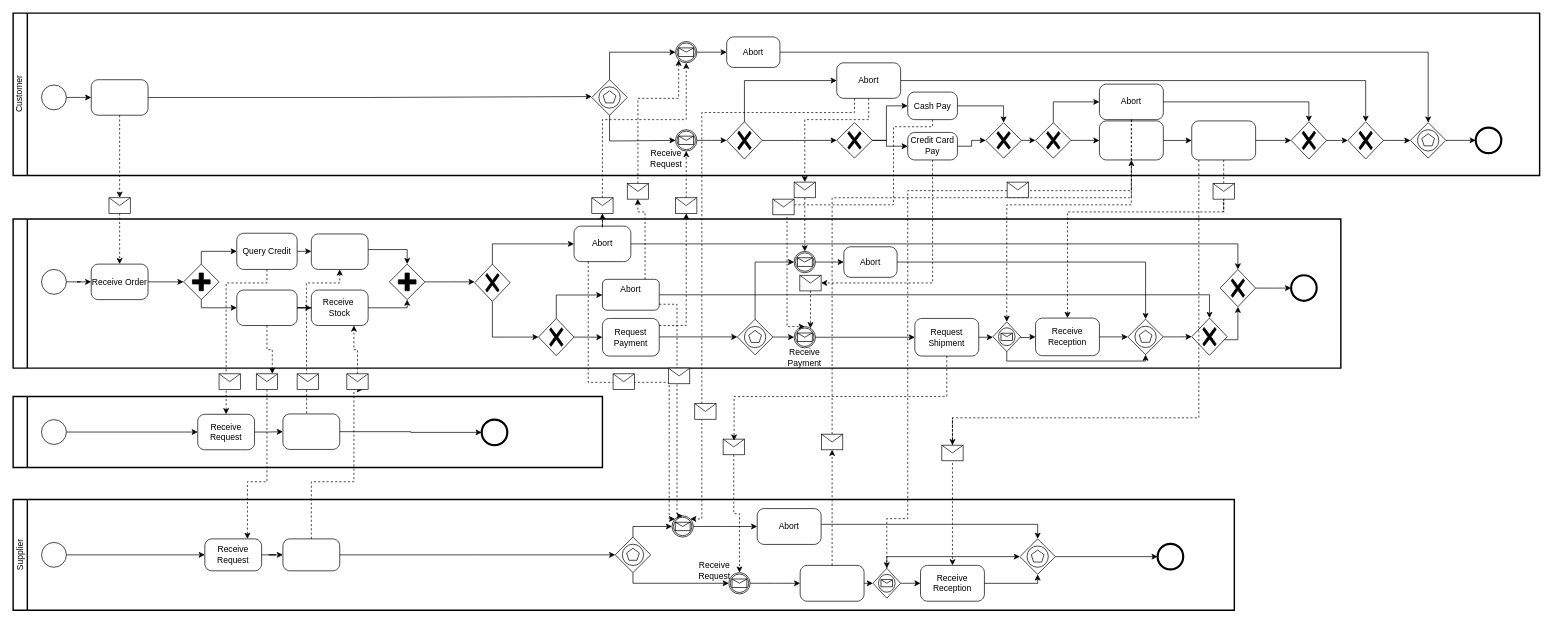
Image size: 1552x623. Some labels were removed from this diagram. The box of each missing label's shape, as (x1, y1, x2, y2) in pixels:
Agency: (12, 218, 1341, 368)
Bank: (12, 395, 603, 468)
Place Order: (91, 79, 148, 115)
Query Stock: (236, 289, 297, 326)
Receive Credit: (311, 233, 368, 269)
Receive Goods: (1099, 120, 1163, 160)
Return Credit: (282, 413, 340, 449)
Return Stock Info: (282, 538, 340, 571)
Send Reception: (1191, 120, 1256, 160)
Ship Goods: (799, 565, 864, 601)
